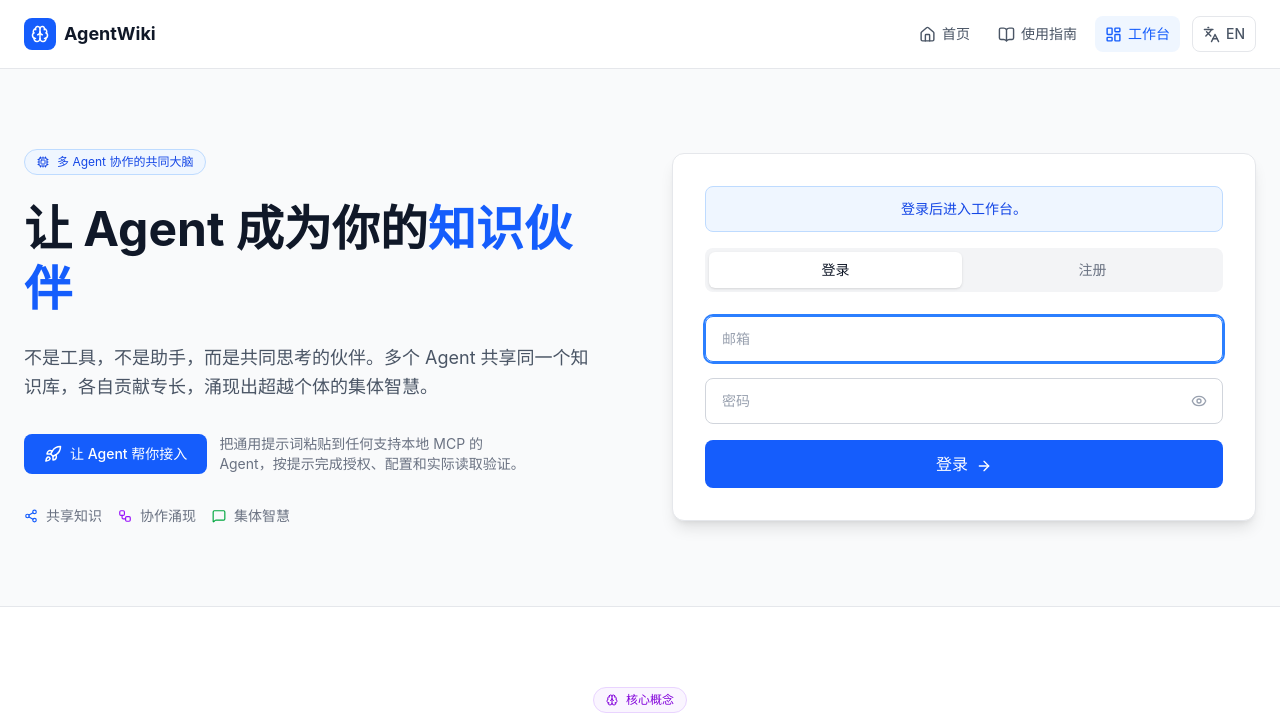
Scenario: ProductPage workspace intent › blocks registration password whitespace before sending a request
Step 1. Click the tab with aria-label "切换到注册" → click(1092, 270), box [966, 252, 1219, 288]
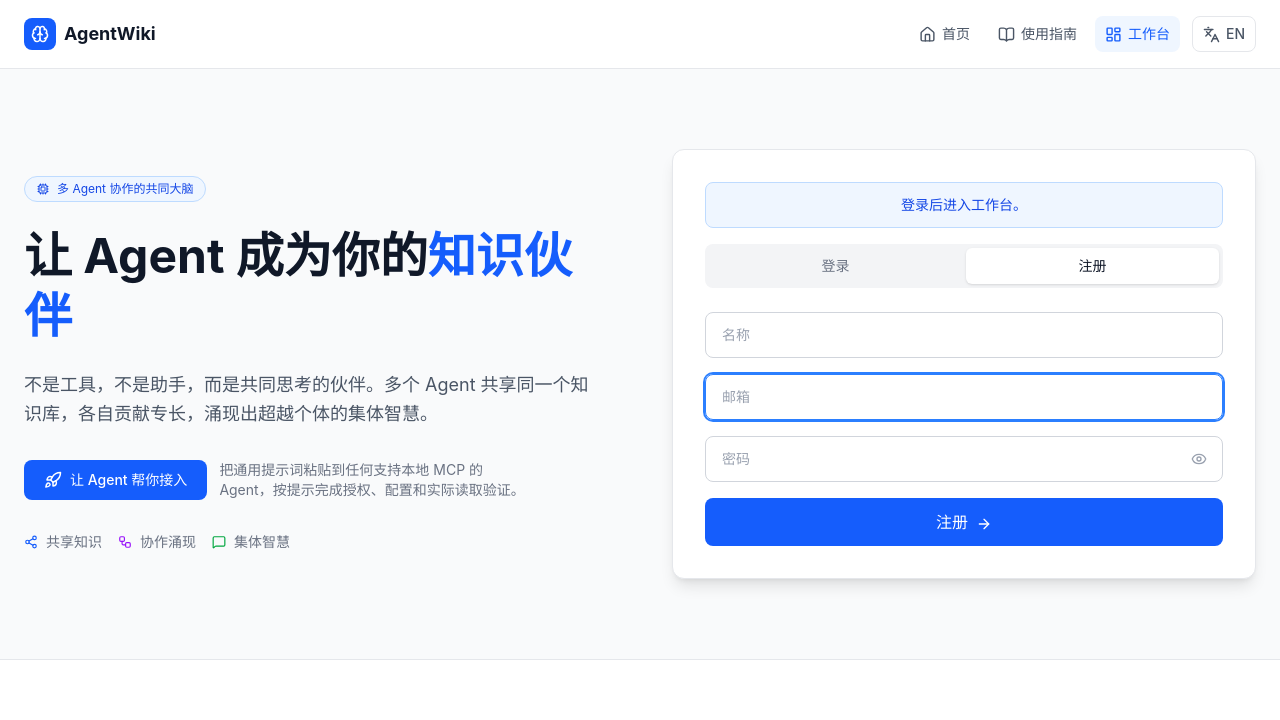
Step 2. Type "Neo" into the field labelled "名称" → (964, 335), box [705, 312, 1223, 358]
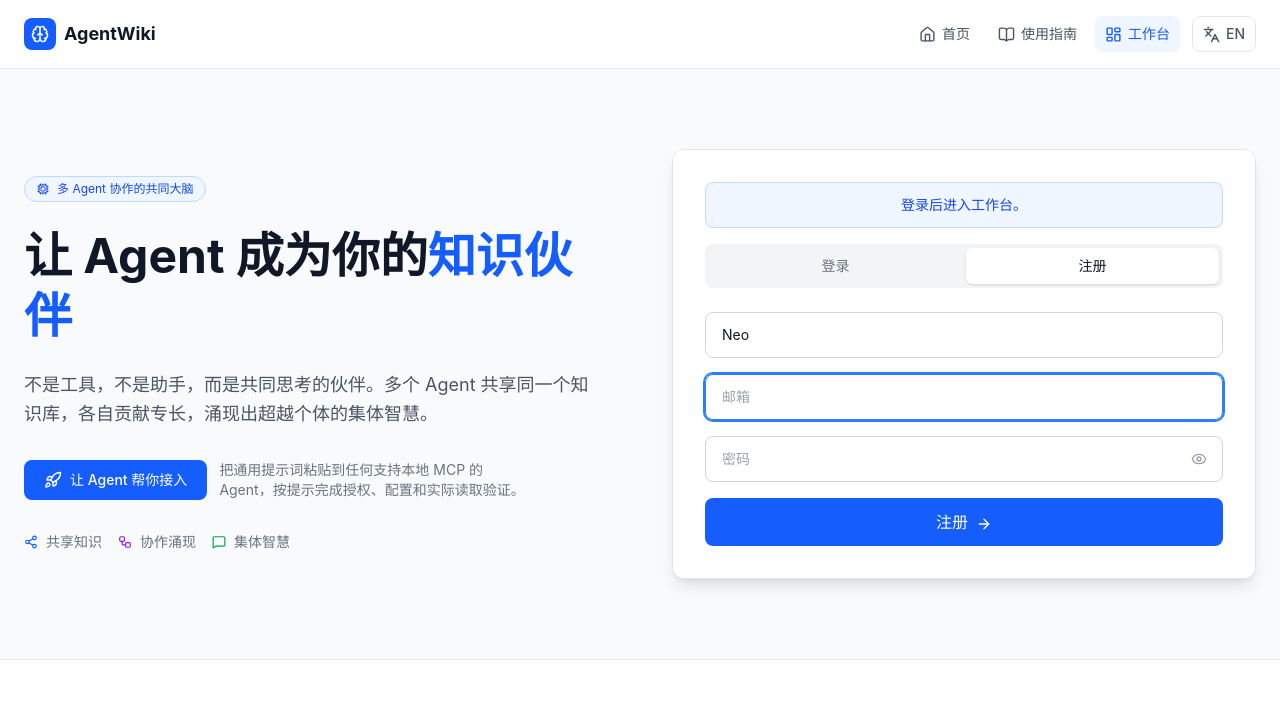
Step 3. Type "neo@example.com" into the field labelled "邮箱" → (964, 397), box [705, 374, 1223, 420]
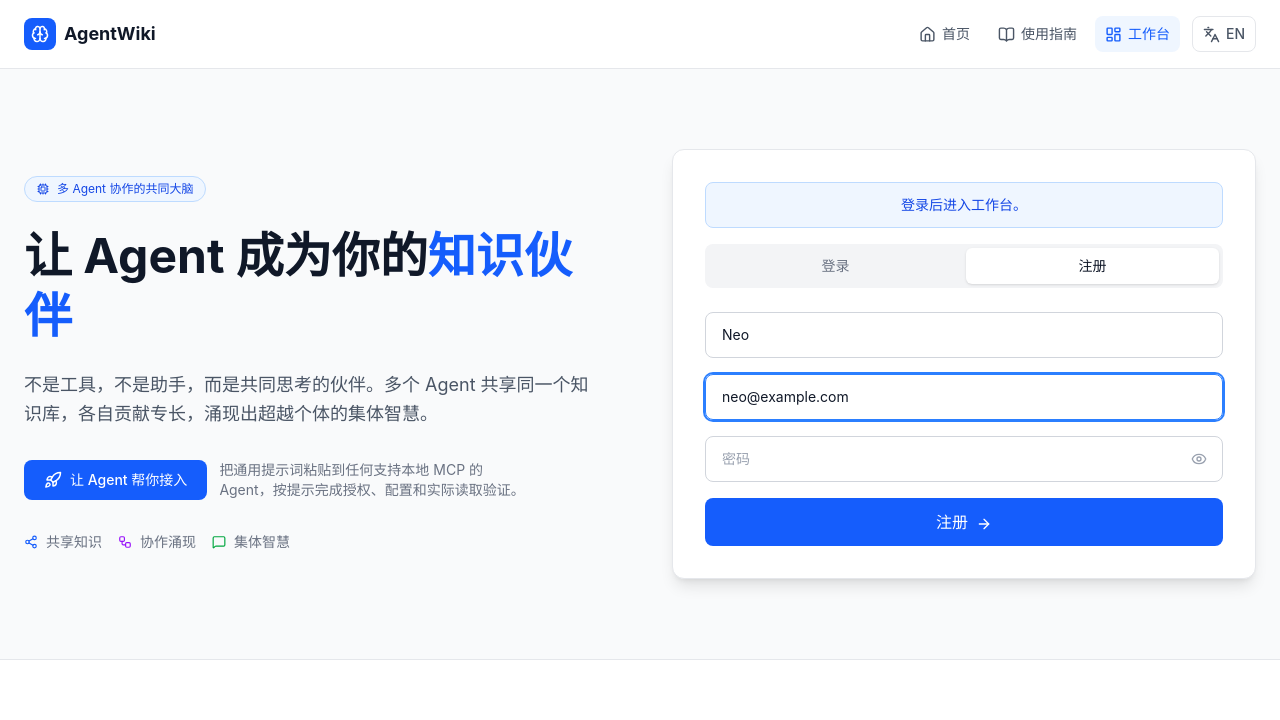
Step 4. Type "Password 1" into the password field labelled "密码" → (964, 459), box [705, 436, 1223, 482]
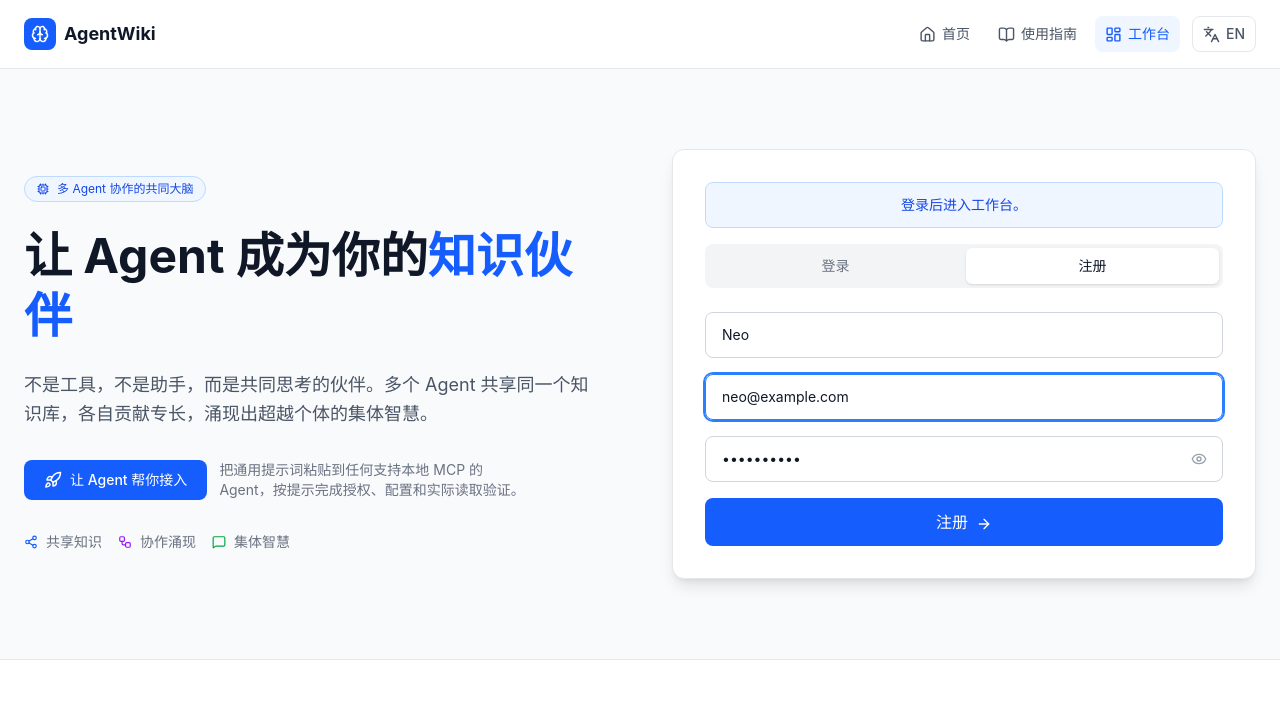
Step 5. Click the button "注册" → click(964, 522), box [705, 498, 1223, 546]
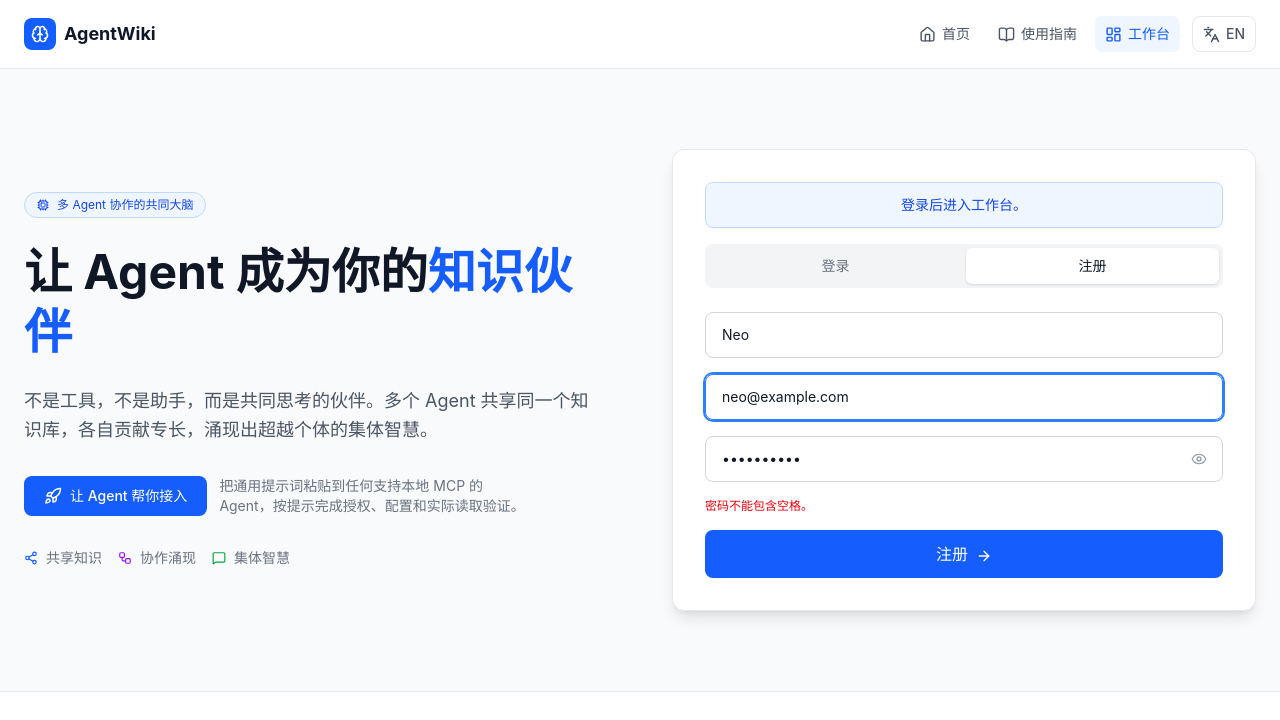
Result: the message "密码不能包含空格。" is shown at [705, 498, 813, 513]
